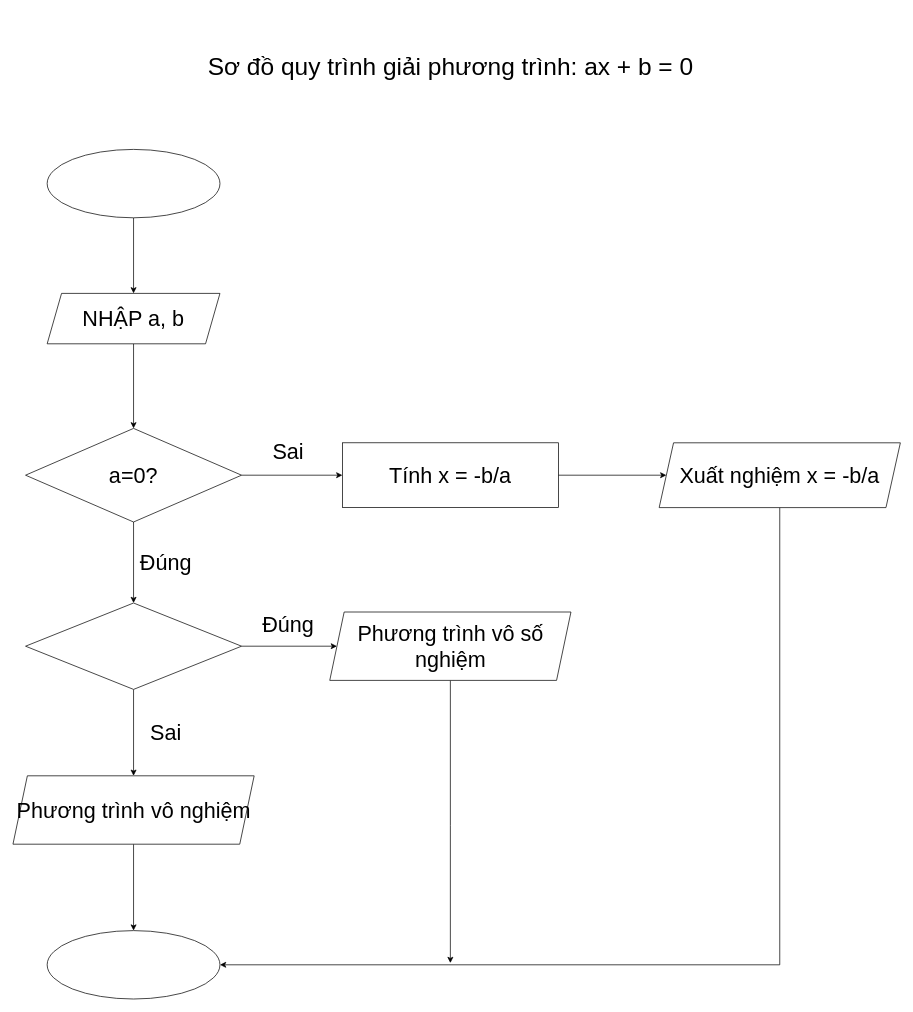
Some shapes in this 913 by 1012 pixel diagram are drawn without their labels. Here are the shapes that lost their labels. From the top down, the centre of each, then its label:
At point (133, 183): "Bắt đầu".
At point (133, 645): "b=0?".
At point (133, 964): "Kết thúc".
